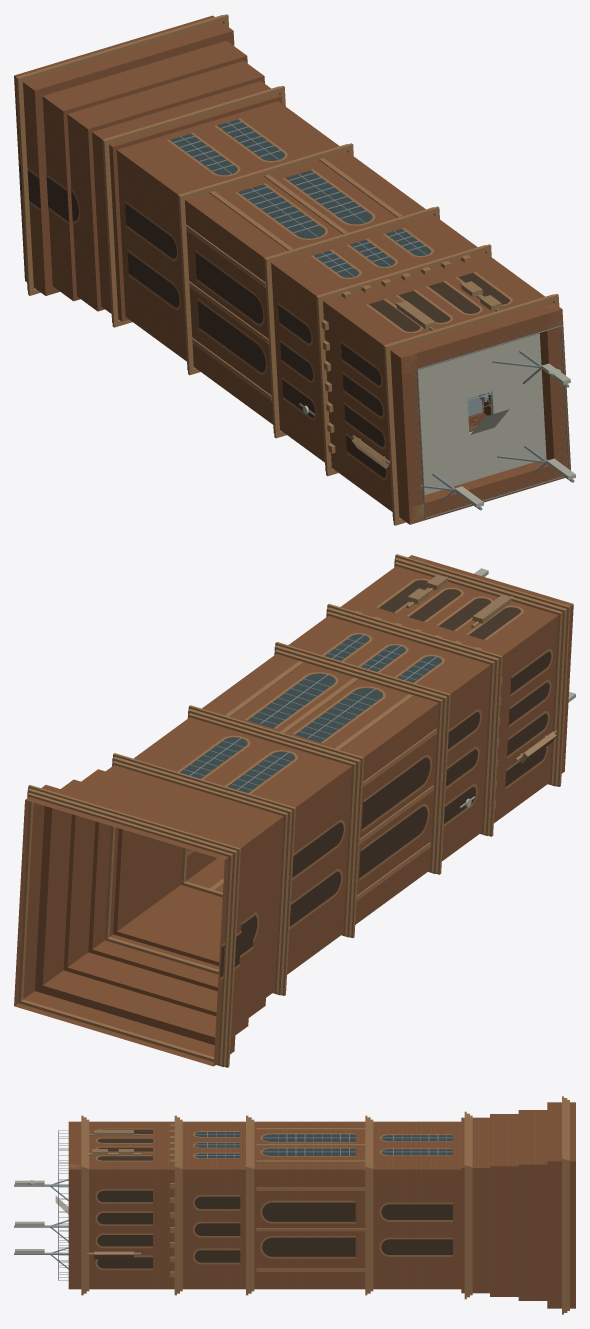
The model's file is 7145-saffron-walden-tower.obj.
3 renders of one model, top to bottom at view 1: azimuth 30°, elevation 25°; view 2: azimuth 150°, elevation 25°; view 3: azimuth 270°, elevation 25°, orthographic. The views are drawn at different scales.
Visible parts, largest first — view 1: tower_wall_N, tower_wall_W, cornice_coping, roof_slab, roof_parapet, masonry_wall_returns, cosmetic_courses, main_arch_W, main_arch_N, facade_pilasters, cornice_middle, tank_level_arch_N (+14 smaller); view 2: tower_wall_N, tower_wall_W, tower_wall_S, tower_wall_E, cornice_lower, cornice_middle, cornice_coping, masonry_wall_returns, cosmetic_courses, main_arch_W, main_arch_N, facade_pilasters (+14 smaller); view 3: tower_wall_E, tower_wall_N, cosmetic_courses, cornice_middle, cornice_lower, main_arch_E, cornice_coping, tank_level_arch_E, lower_arch_E, facade_pilasters, roof_parapet, upper_arch_E (+16 smaller).
Part boxes in pixels (<box>): tower_wall_N: <box>14,15,554,351</box>; tower_wall_W: <box>14,76,401,518</box>; cornice_coping: <box>16,14,559,525</box>; roof_slab: <box>418,333,546,494</box>; roof_parapet: <box>393,303,570,524</box>; masonry_wall_returns: <box>34,30,282,321</box>; cosmetic_courses: <box>15,79,475,516</box>; main_arch_W: <box>195,252,265,372</box>; main_arch_N: <box>238,170,372,238</box>; facade_pilasters: <box>186,158,402,400</box>; cornice_middle: <box>16,15,553,520</box>; tank_level_arch_N: <box>369,273,509,331</box>; tower_wall_N: <box>25,566,558,860</box>; tower_wall_W: <box>213,615,558,1065</box>; tower_wall_S: <box>14,858,224,1066</box>; tower_wall_E: <box>14,800,216,1005</box>; cornice_lower: <box>18,562,562,1065</box>; cornice_middle: <box>23,557,566,1066</box>; cornice_coping: <box>28,554,570,1067</box>; masonry_wall_returns: <box>35,806,219,1045</box>; cosmetic_courses: <box>178,623,557,1059</box>; main_arch_W: <box>359,757,430,878</box>; main_arch_N: <box>247,673,382,742</box>; facade_pilasters: <box>187,661,436,900</box>; tower_wall_E: <box>79,1161,575,1308</box>; tower_wall_N: <box>79,1102,575,1169</box>; cosmetic_courses: <box>97,1102,550,1308</box>; cornice_middle: <box>83,1098,567,1312</box>; cornice_lower: <box>86,1100,569,1310</box>; main_arch_E: <box>262,1202,355,1256</box>; cornice_coping: <box>81,1096,563,1314</box>; tank_level_arch_E: <box>97,1190,152,1268</box>; lower_arch_E: <box>381,1204,452,1254</box>; facade_pilasters: <box>256,1128,365,1271</box>; roof_parapet: <box>68,1121,79,1289</box>; upper_arch_E: <box>194,1196,240,1262</box>.
Size of the model in its own units: 8914 by 8914 by 28300.
